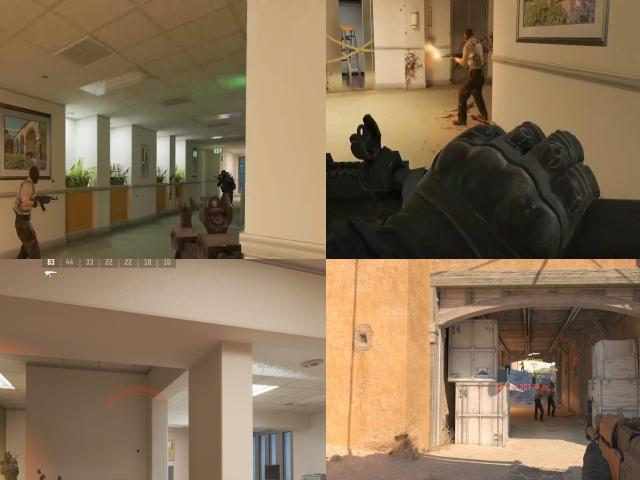CT: (216, 166, 236, 196), (2, 450, 16, 480), (220, 168, 230, 184), (504, 365, 510, 375), (521, 361, 524, 372)
CT-Head: (4, 452, 14, 466), (521, 360, 523, 364)
T: (454, 21, 489, 98), (12, 173, 42, 214), (534, 384, 544, 421), (548, 382, 556, 417), (532, 370, 536, 387)
T-Head: (458, 25, 478, 48), (25, 163, 43, 186), (538, 384, 543, 390), (550, 380, 553, 388)
